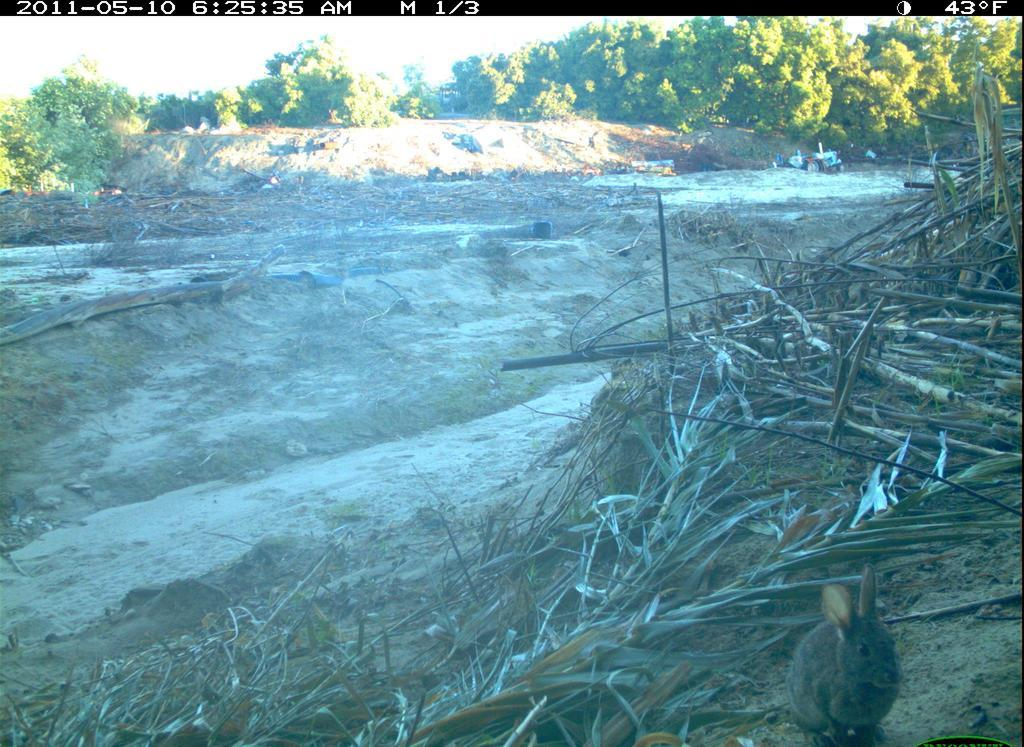rabbit: (763, 557, 930, 747)
